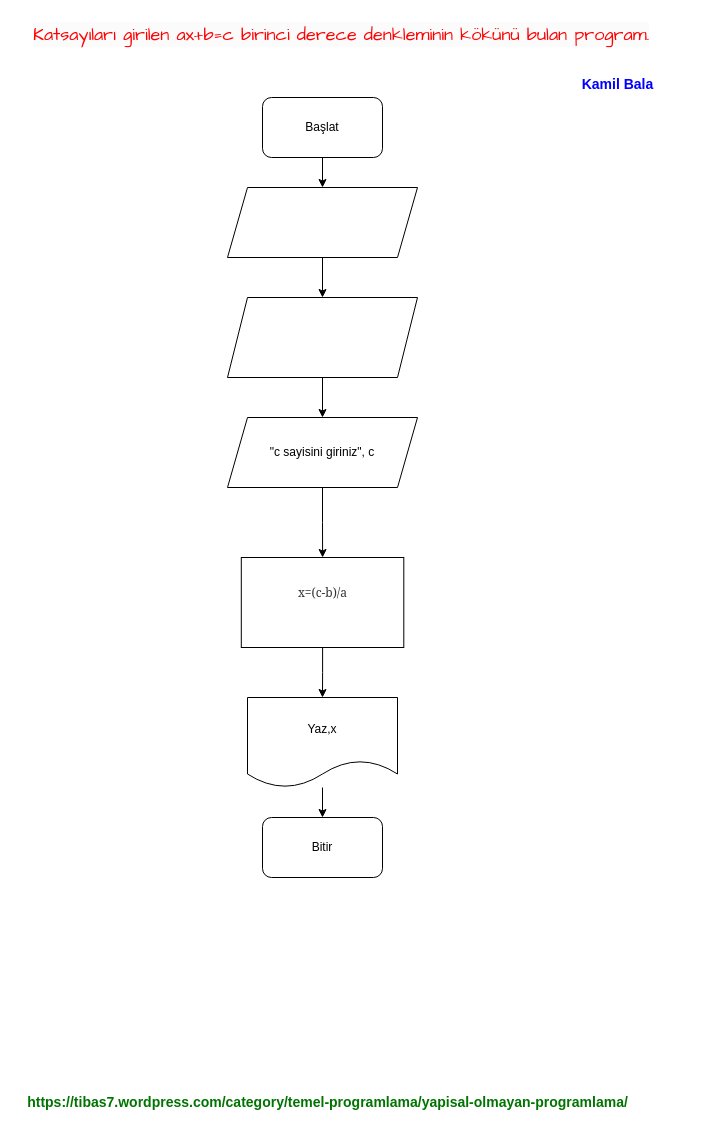
The diagram is 704 pixels wide and 1134 high, and some of its shapes have lost their labels. The shapes that lost their labels are listed below. From the top down, each one's centre as x and y in pixels, then its label:
(x=322, y=222): "a sayisini giriniz", a
(x=322, y=337): "b sayisini giriniz", b
